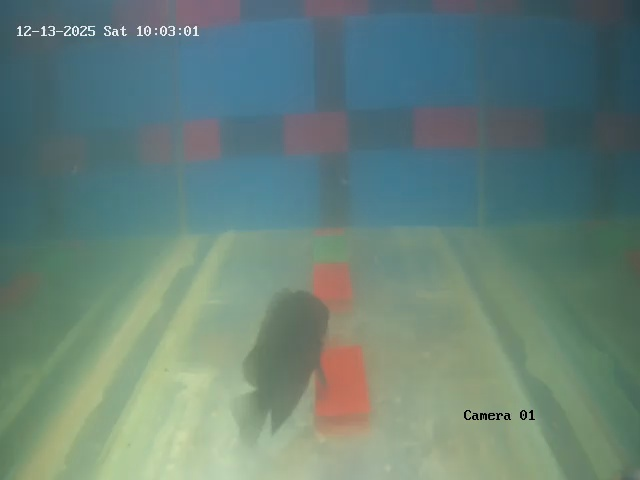fish: (238, 291, 332, 401)
